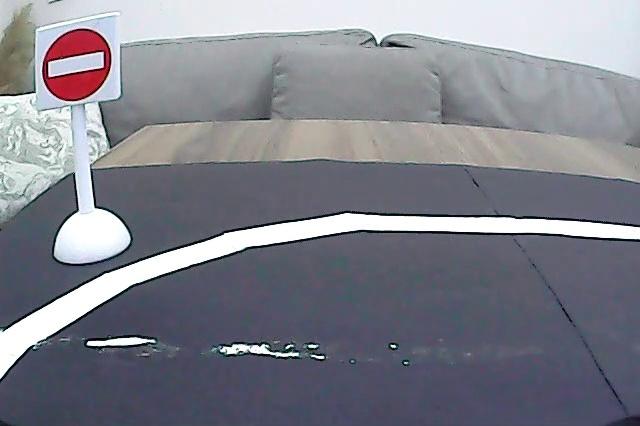do not enter: (40, 24, 115, 105)
